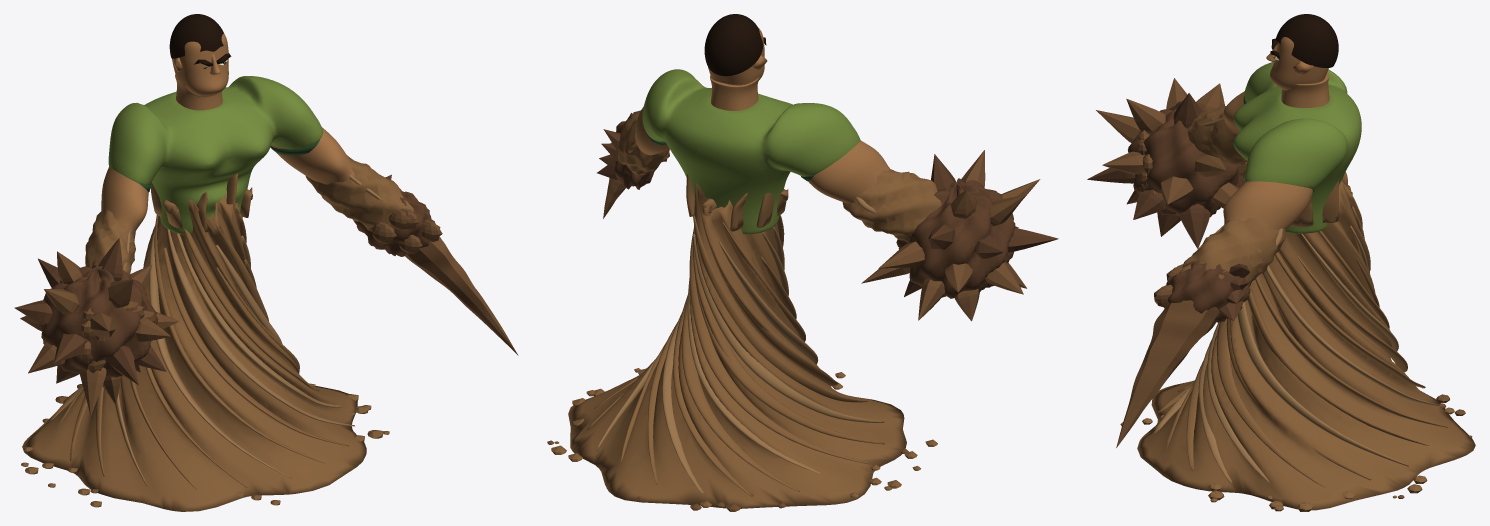
File: sandman.glb
The picture shows the model from 3 angles, left to right: view 1: azimuth 30°, elevation 25°; view 2: azimuth 150°, elevation 25°; view 3: azimuth 270°, elevation 25°; orthographic projection.
Parts seen in each view (by area): view 1: torso, weapon, armR, head, armL; view 2: torso, weapon, head, armL, armR; view 3: torso, weapon, armR, head, armL.
Part boxes in pixels (bbox=[...]): torso: bbox=[21, 76, 413, 511]; weapon: bbox=[14, 238, 179, 415]; armR: bbox=[270, 127, 518, 355]; head: bbox=[169, 14, 231, 110]; armL: bbox=[101, 167, 151, 233]; torso: bbox=[547, 69, 941, 511]; weapon: bbox=[861, 150, 1058, 321]; head: bbox=[704, 14, 767, 110]; armL: bbox=[801, 140, 889, 203]; armR: bbox=[597, 107, 669, 218]; torso: bbox=[1120, 62, 1475, 511]; weapon: bbox=[1087, 78, 1247, 248]; armR: bbox=[1116, 181, 1315, 447]; head: bbox=[1266, 14, 1338, 107]; armL: bbox=[1223, 91, 1246, 134].
Bounding box in the file's own units: 3.84 × 3.4 × 2.84.
